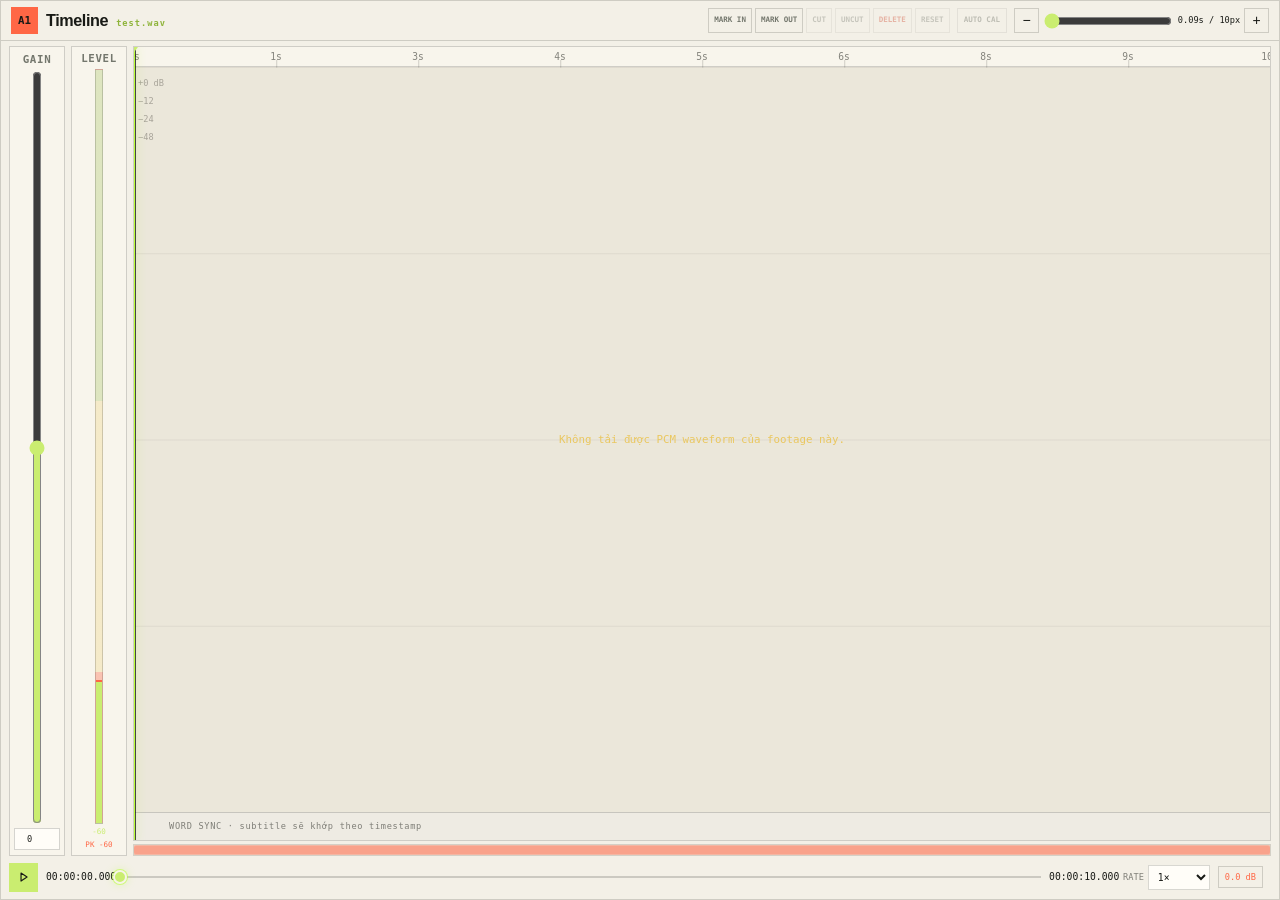
Test case: Timeline › exposes a fast timeline zoom slider
The image size is (1280, 900).
Set the slider named "Zoom timeline" to "1000": (1164, 20) x1=1044 y1=12 x2=1172 y2=30
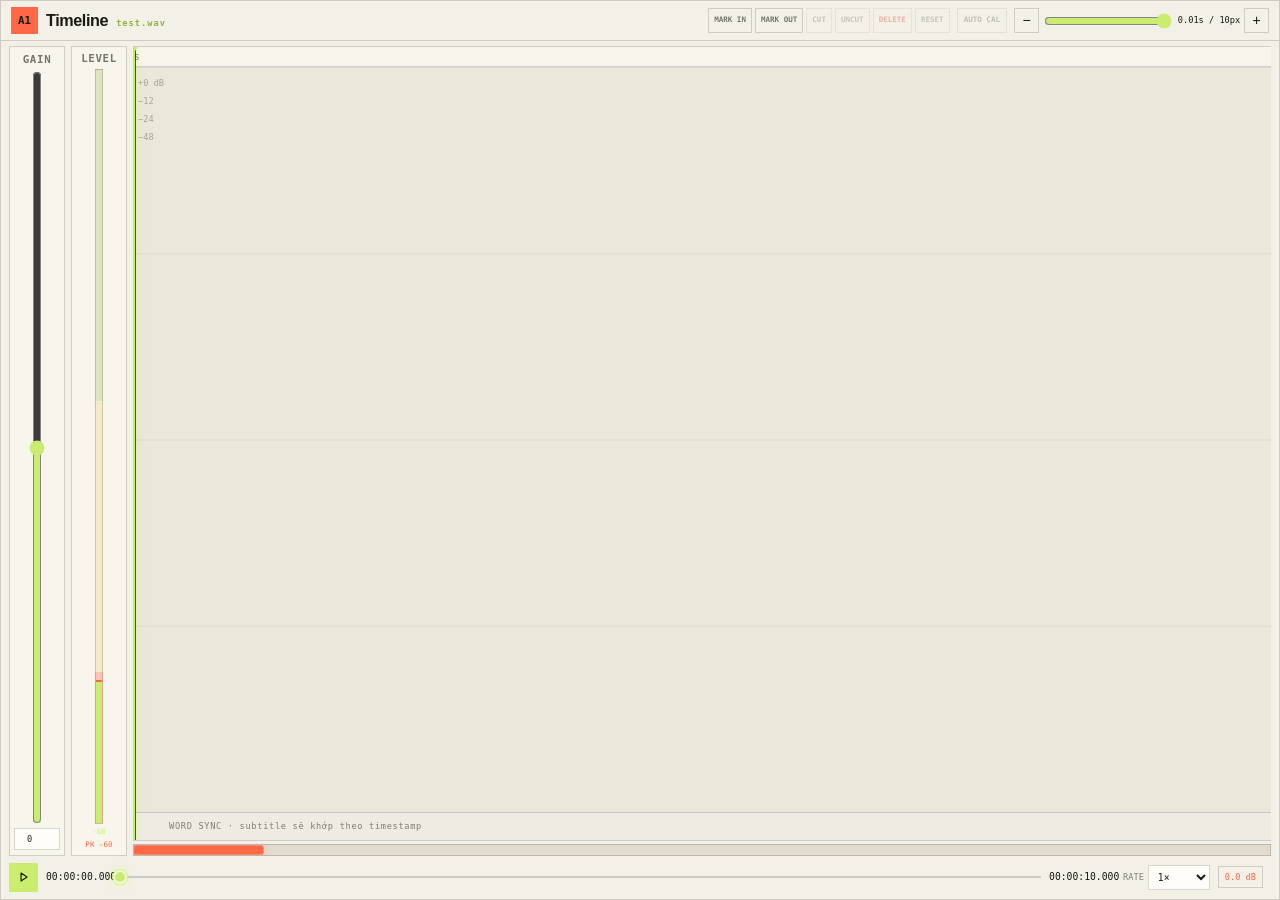
expect the text titled "Mật độ hiển thị timeline" reads "0.01s / 10px": met, box x1=1178 y1=16 x2=1240 y2=26
